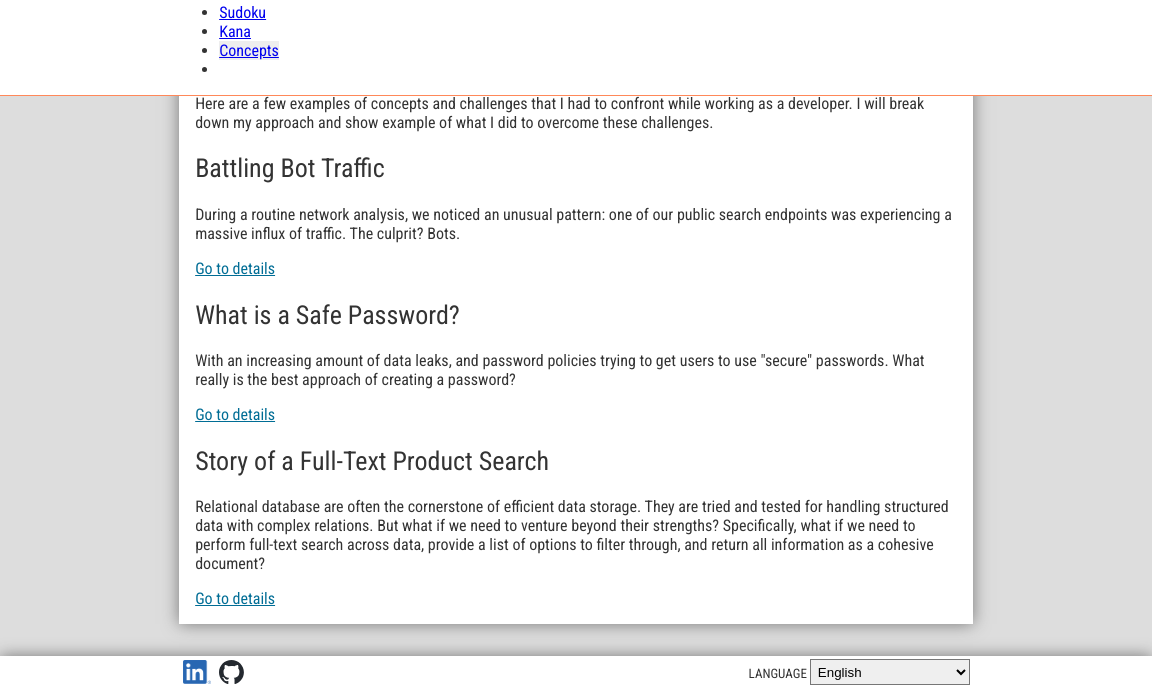
Test: Clicking 'Go to detail' for 'Search' navigates to the correct sub page
The width and height of the screenshot is (1152, 688).
(page scrolled)
Click the link to "/concepts/search" at (235, 599), box [195,589,275,608]
(page scrolled)
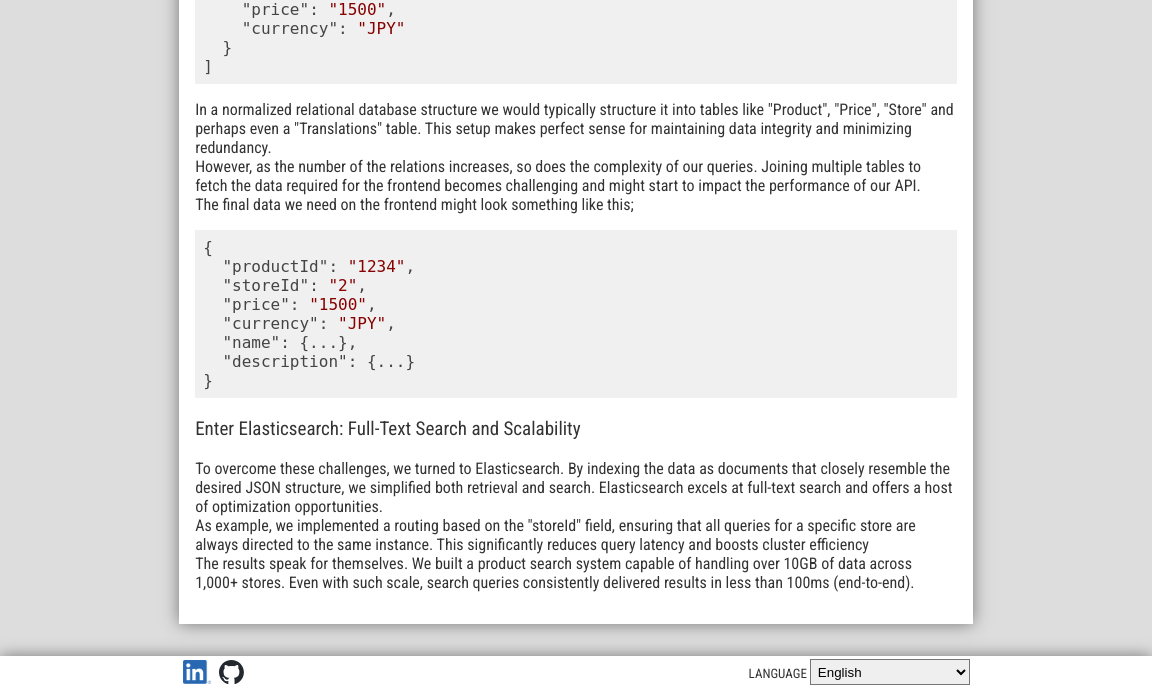
Result: the heading "Enter Elasticsearch: Full-Text Search and Scalability" is shown at [195,417,581,440]
